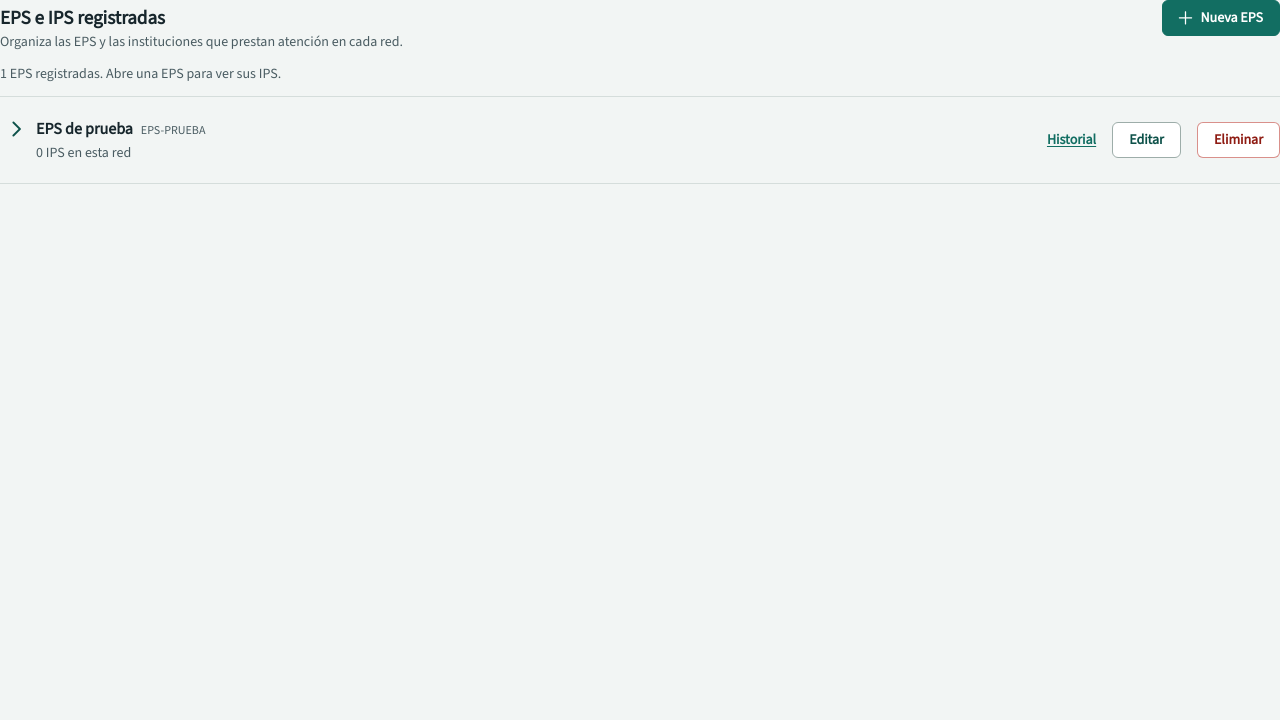
deletes then restores from the undo toast and refreshes the list
Click the button with aria-label "Eliminar EPS de prueba" at (1238, 140), box [1197, 122, 1279, 158]
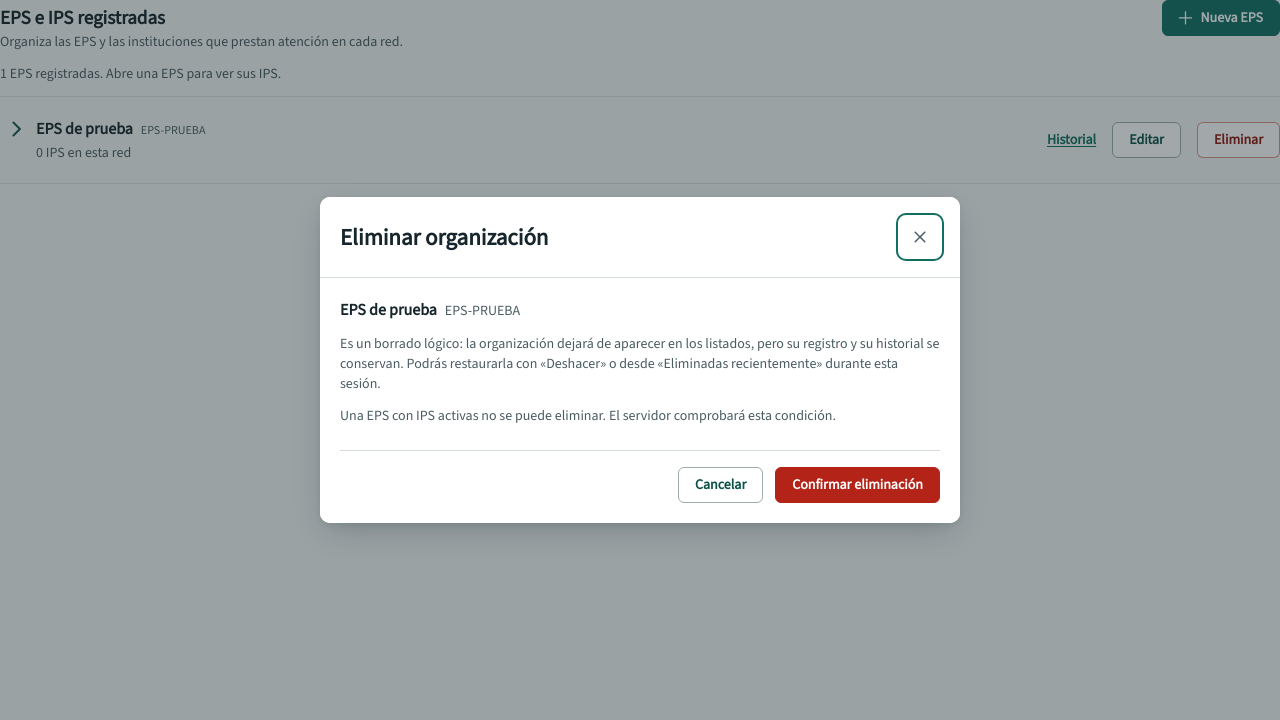
Check: the text "Es un borrado lógico" is shown, box [340, 334, 939, 393]
Click the button "Confirmar eliminación" at (858, 485), box [775, 467, 940, 503]
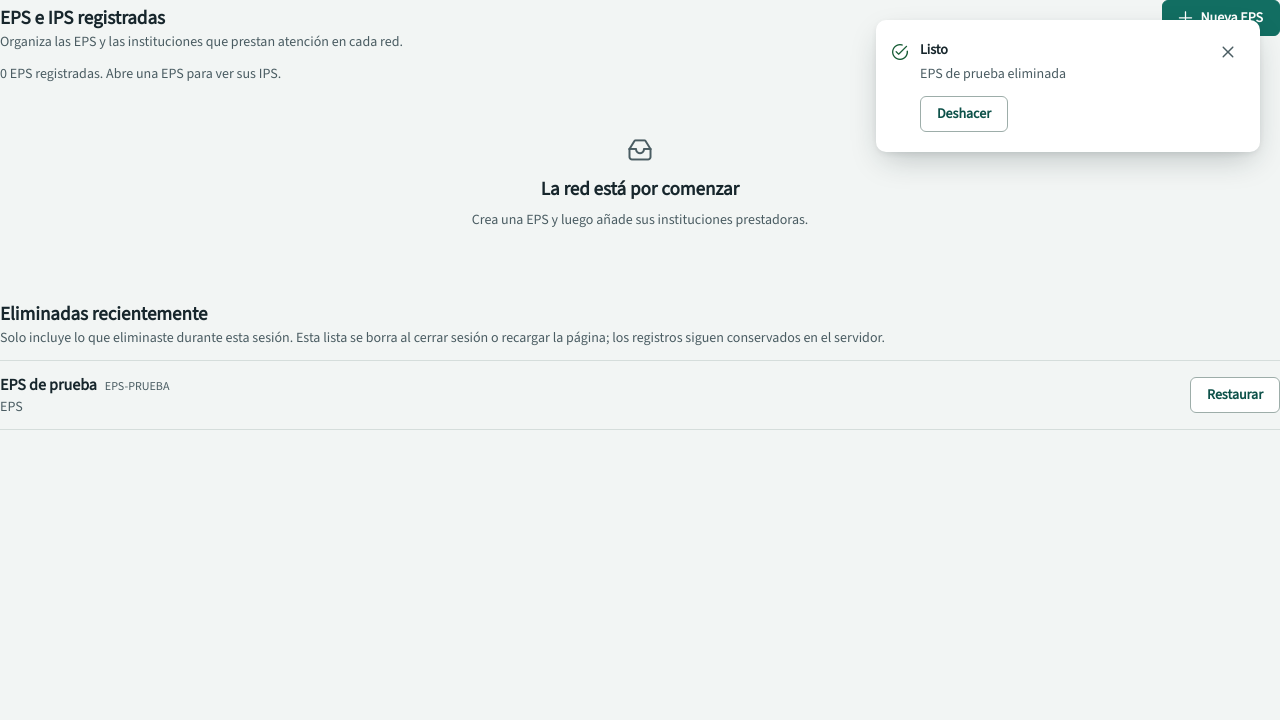
Check: the heading "Eliminadas recientemente" is shown, box [0, 301, 208, 326]
Click the button "Deshacer" at (964, 114), box [920, 96, 1008, 132]
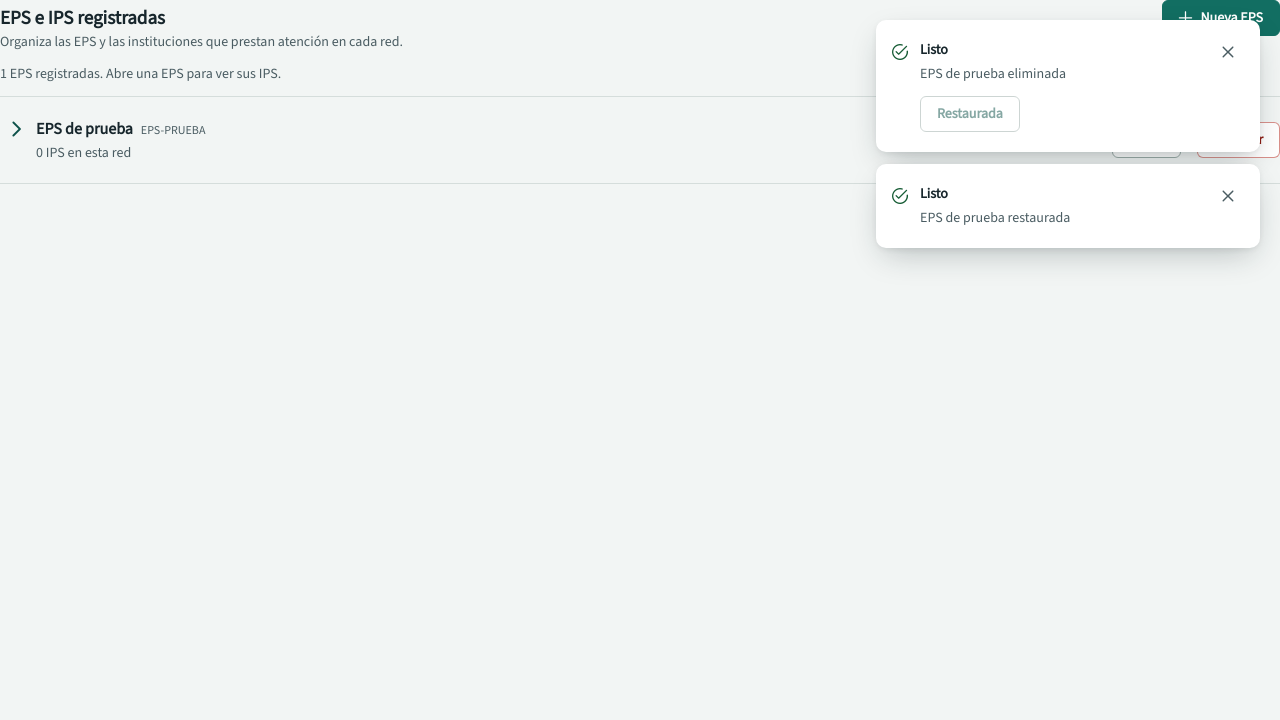
Check: the button with aria-label "Eliminar EPS de prueba" is shown, box [1197, 122, 1279, 158]
Check: the heading "Eliminadas recientemente" is gone
